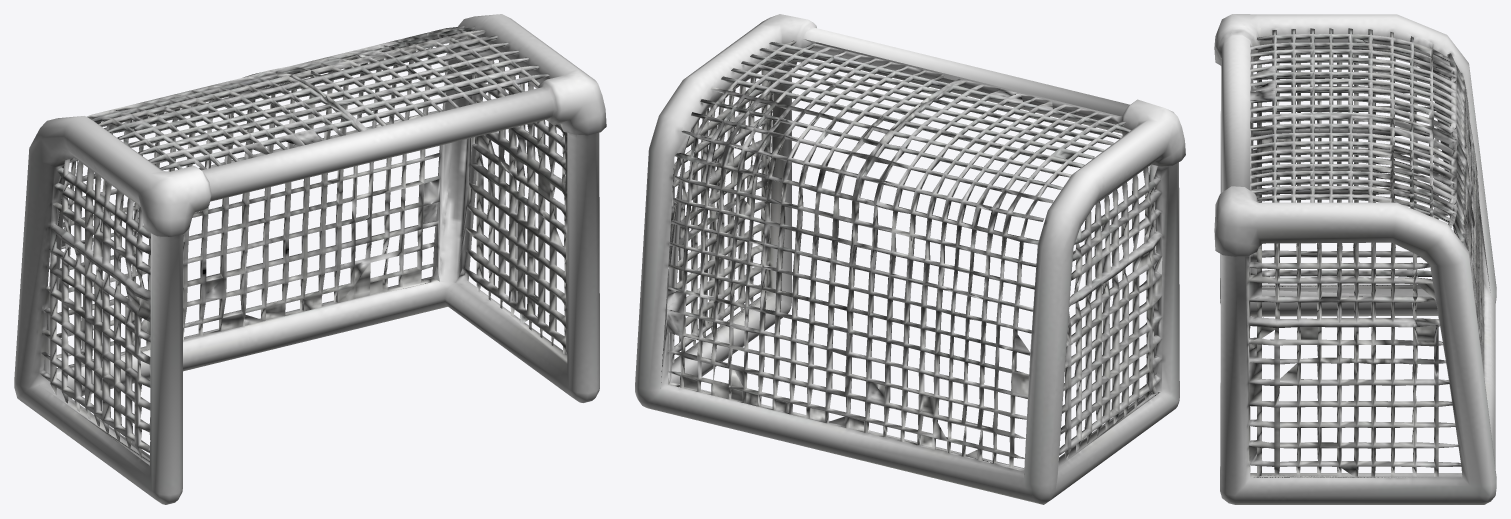
File: goal.glb
The picture shows the model from 3 angles, left to right: view 1: azimuth 30°, elevation 25°; view 2: azimuth 150°, elevation 25°; view 3: azimuth 270°, elevation 25°; orthographic projection. The views are drawn at different scales.
Parts seen in each view (by area): view 1: tripo_node_5391b3d9-8214-459f-ac2c-83c2cf3e3a2f; view 2: tripo_node_5391b3d9-8214-459f-ac2c-83c2cf3e3a2f; view 3: tripo_node_5391b3d9-8214-459f-ac2c-83c2cf3e3a2f.
Part boxes in pixels (x1,y1,x2,y2): tripo_node_5391b3d9-8214-459f-ac2c-83c2cf3e3a2f: (14, 14, 606, 504); tripo_node_5391b3d9-8214-459f-ac2c-83c2cf3e3a2f: (635, 14, 1185, 504); tripo_node_5391b3d9-8214-459f-ac2c-83c2cf3e3a2f: (1214, 14, 1496, 504).
Bounding box in the file's own units: 0.9982 × 0.6856 × 0.5801.
Materials: 1 (1 with a texture image).
